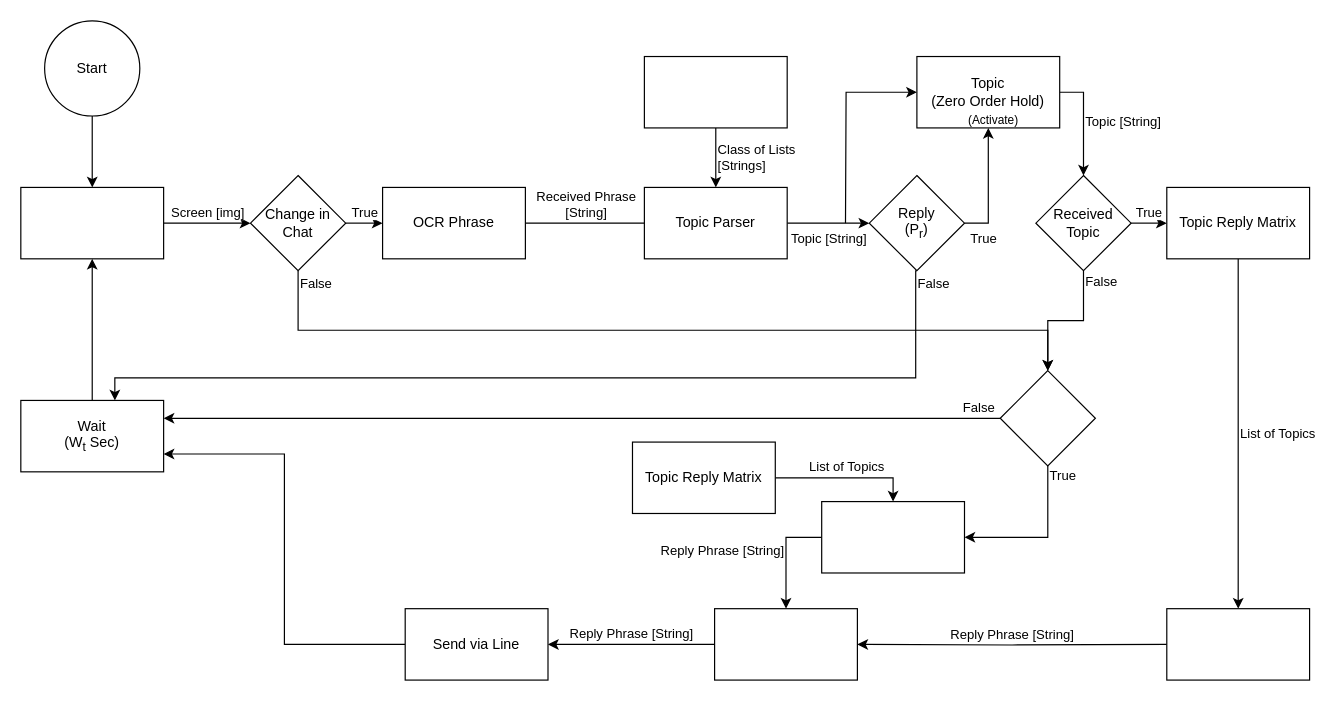
Image size: 1336x701. Some labels were removed from this diagram. Each missing label, with the box of its shape:
Chat Capture: (20, 186, 164, 259)
Do Reply (Random): (999, 369, 1095, 466)
Get Reply: (1166, 607, 1310, 680)
Key Word Database: (643, 55, 787, 128)
Random Reply: (821, 500, 964, 573)
Wait: (713, 607, 857, 680)
